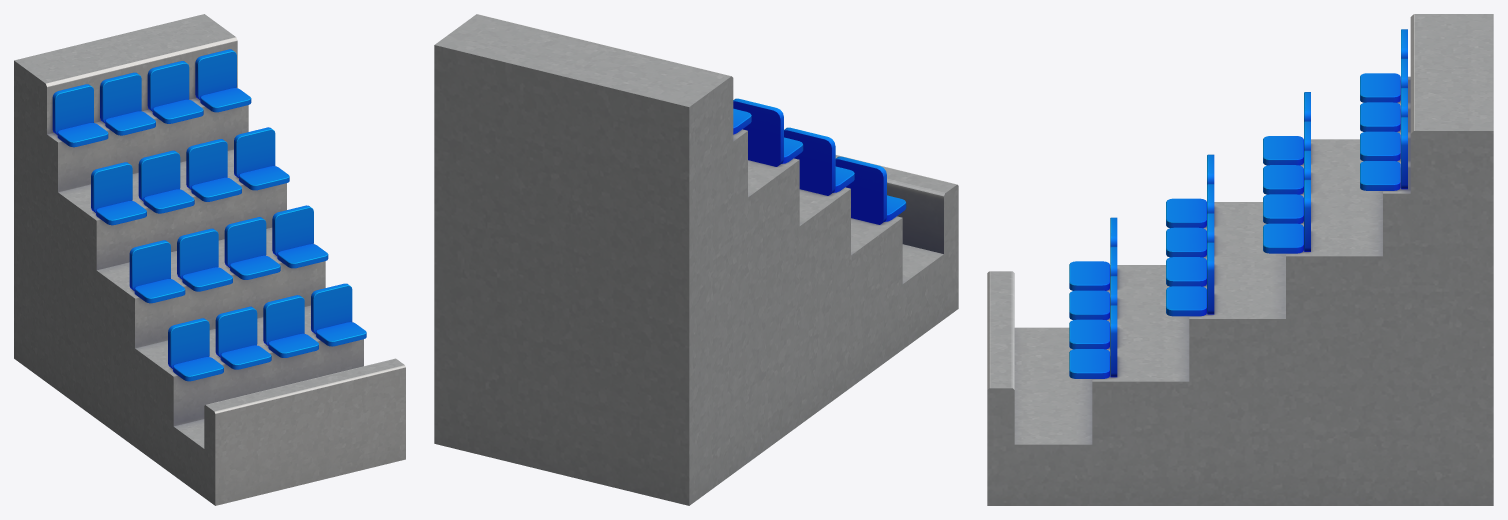
Rendered from tribune.fbx.
3 views of the same model, side by side, from view 1: azimuth 30°, elevation 25°; view 2: azimuth 150°, elevation 25°; view 3: azimuth 270°, elevation 25° (orthographic). The views are drawn at different scales.
Visible parts, largest first — view 1: tribune, tribune_chair; view 2: tribune, tribune_chair; view 3: tribune, tribune_chair.
Part boxes in pixels (bbox=[...]): tribune: bbox=[14, 14, 405, 505]; tribune_chair: bbox=[52, 49, 366, 381]; tribune: bbox=[434, 14, 958, 505]; tribune_chair: bbox=[733, 98, 906, 224]; tribune: bbox=[987, 14, 1493, 505]; tribune_chair: bbox=[1069, 29, 1407, 378].
Size of the model in its own units: 200 by 299 by 366.
